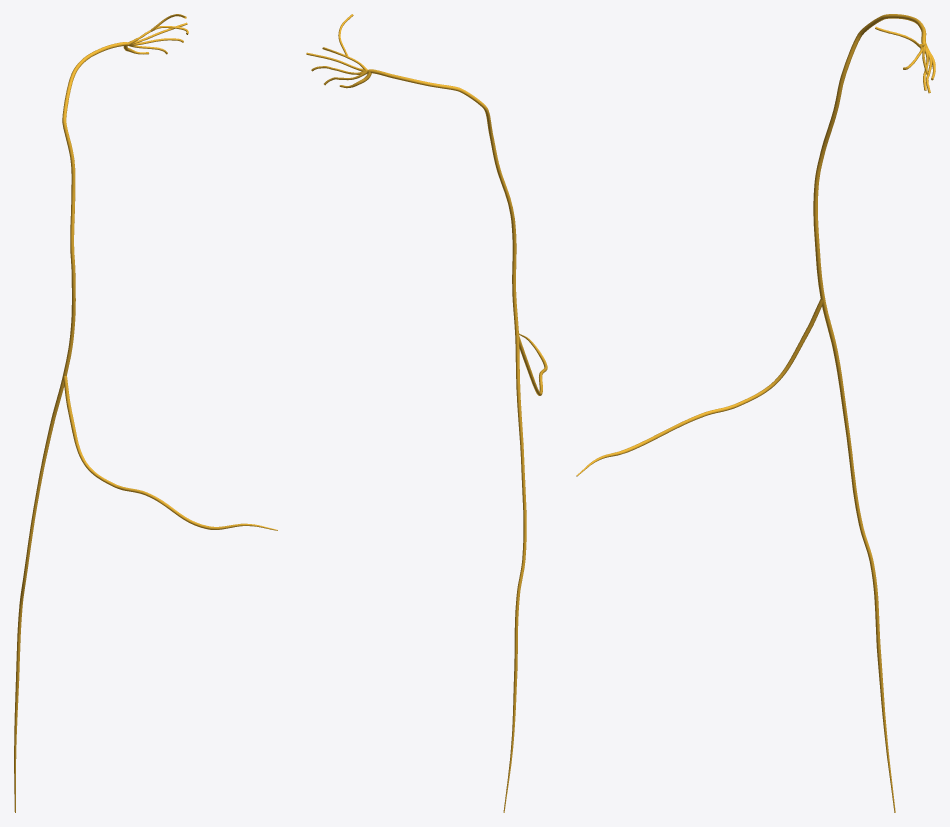
The model's file is nervoso-glossopharyngeal-nerve-ix-r.glb.
3 views of the same model, side by side, from view 1: azimuth 30°, elevation 25°; view 2: azimuth 150°, elevation 25°; view 3: azimuth 270°, elevation 25° (orthographic). The views are drawn at different scales.
Parts seen in each view (by area): view 1: Glossopharyngeal nerve (IX).r; view 2: Glossopharyngeal nerve (IX).r; view 3: Glossopharyngeal nerve (IX).r.
Part boxes in pixels (x1=…): Glossopharyngeal nerve (IX).r: x1=14, y1=14, x2=277, y2=812; Glossopharyngeal nerve (IX).r: x1=306, y1=14, x2=547, y2=812; Glossopharyngeal nerve (IX).r: x1=576, y1=14, x2=935, y2=812.
Size of the model in its own units: 0.039 by 0.1476 by 0.0548.
